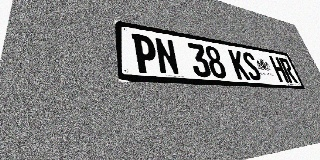3: (187, 42, 212, 78)
8: (203, 45, 228, 79)
H: (269, 56, 289, 83)
K: (228, 49, 251, 80)
N: (154, 37, 180, 76)
P: (131, 33, 159, 74)
R: (278, 57, 298, 83)
S: (240, 51, 263, 81)
